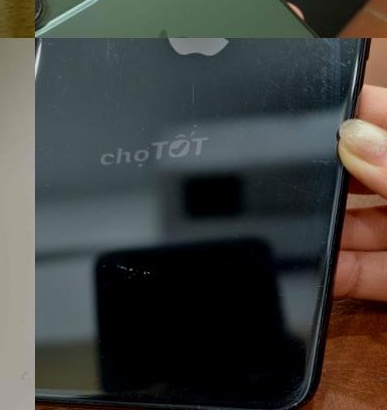scratch: (237, 284, 331, 378), (253, 38, 369, 105), (77, 303, 186, 372), (91, 236, 191, 301), (210, 73, 287, 156), (265, 150, 344, 228), (95, 363, 213, 410), (268, 84, 346, 134), (252, 366, 322, 410), (76, 38, 140, 81), (171, 79, 217, 138), (185, 188, 241, 236), (253, 277, 326, 309), (76, 77, 133, 117), (35, 85, 59, 172), (37, 45, 79, 89), (48, 362, 93, 401), (296, 226, 338, 260), (210, 244, 248, 278), (235, 38, 278, 68), (35, 169, 62, 198), (222, 223, 247, 250), (131, 114, 156, 139), (243, 169, 265, 197), (213, 161, 237, 183), (38, 38, 51, 44)
